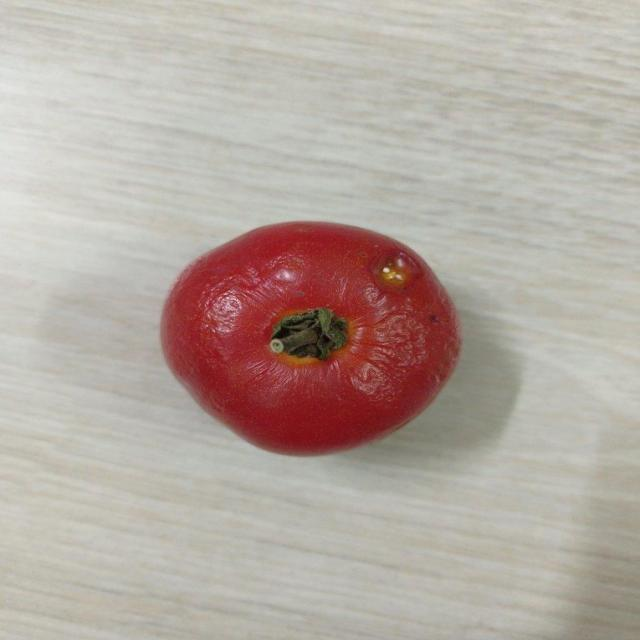Tomato: (159, 215, 471, 456)
